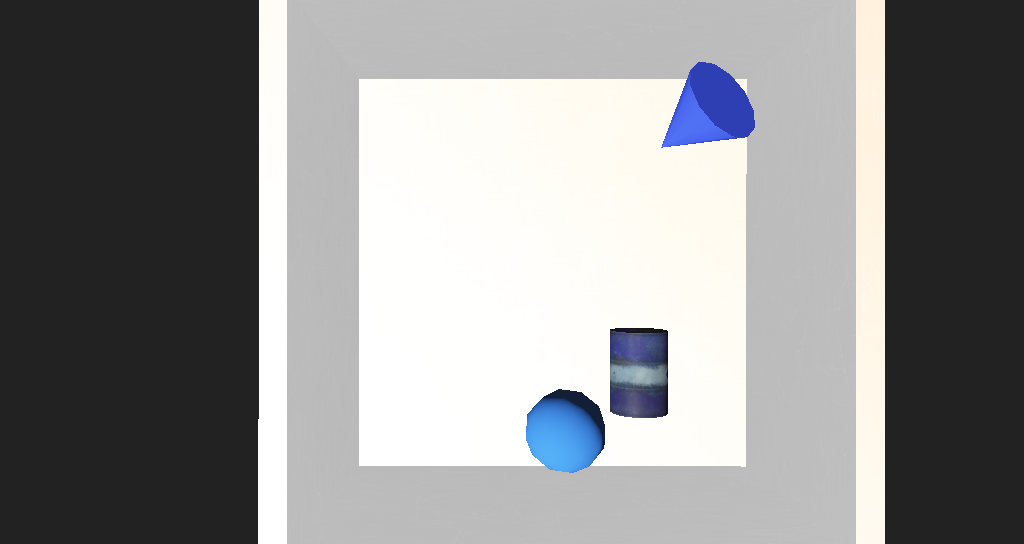cone: (549, 298, 596, 351)
cylinder: (552, 143, 674, 229)
sphere: (478, 329, 546, 377)
